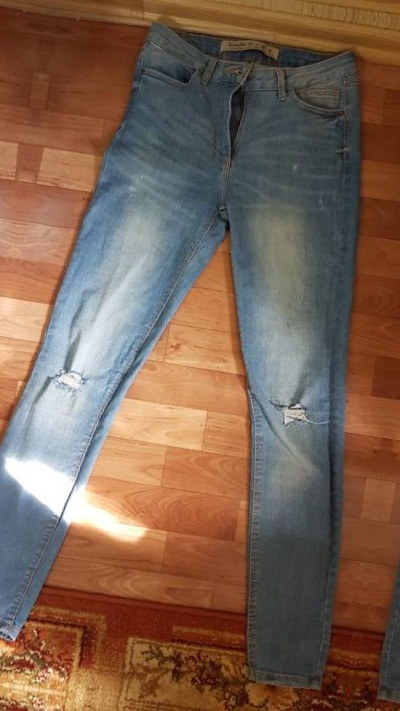Pants: (0, 0, 400, 711), (0, 0, 51, 656), (373, 61, 400, 711), (0, 698, 312, 711)
